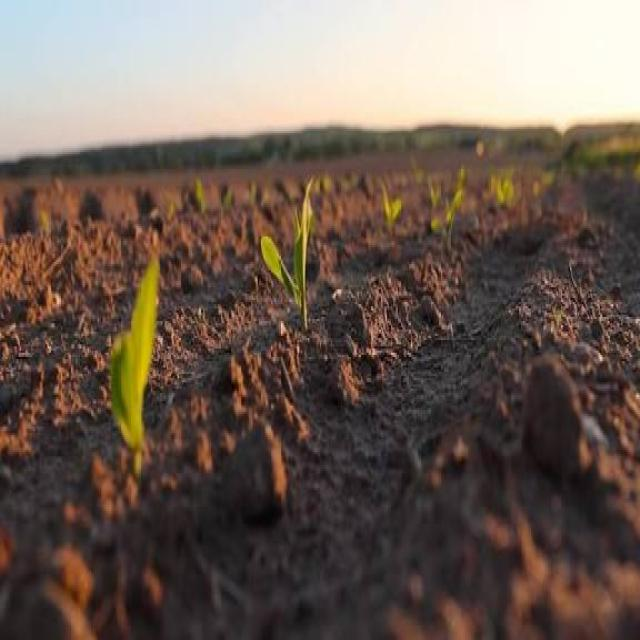suelo_humedo: (107, 195, 604, 597)
